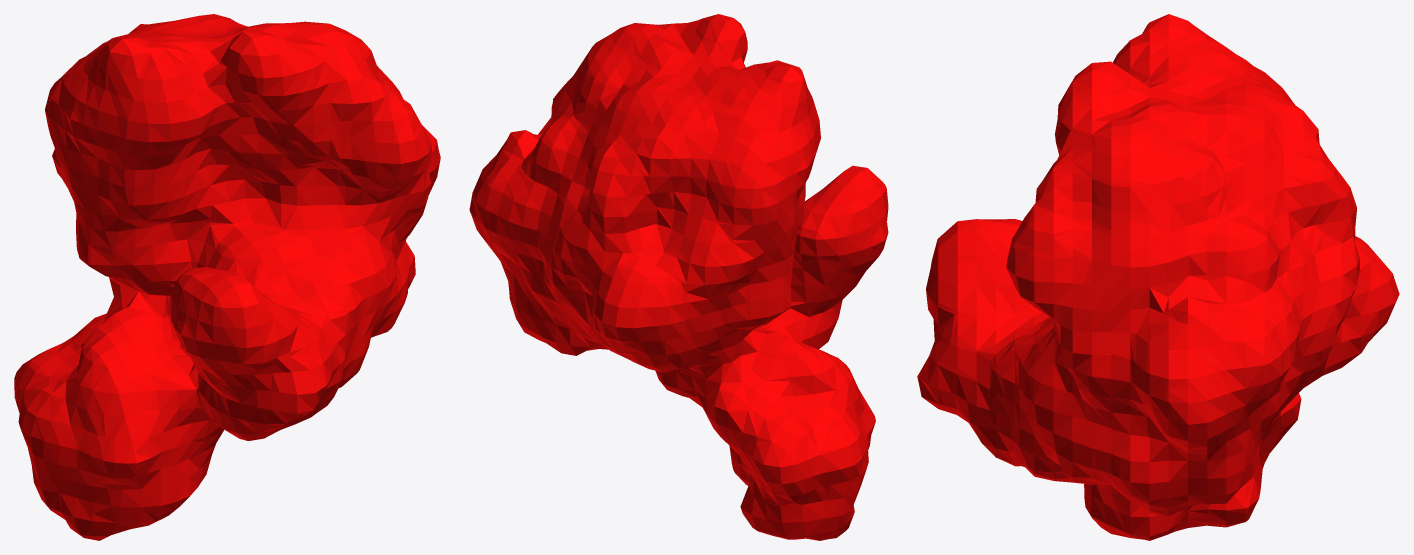
The model's file is speC_coarse.dae.
3 views of the same model, side by side, from view 1: azimuth 30°, elevation 25°; view 2: azimuth 150°, elevation 25°; view 3: azimuth 270°, elevation 25° (orthographic). The views are drawn at different scales.
Parts seen in each view (by area): view 1: speC; view 2: speC; view 3: speC.
Boxes of the visible parts, x1,y1,x2,y2 form: speC: [14, 14, 440, 540]; speC: [469, 14, 888, 540]; speC: [917, 14, 1399, 540].
Bounding box in the file's own units: 81.14 × 93.72 × 75.64.
